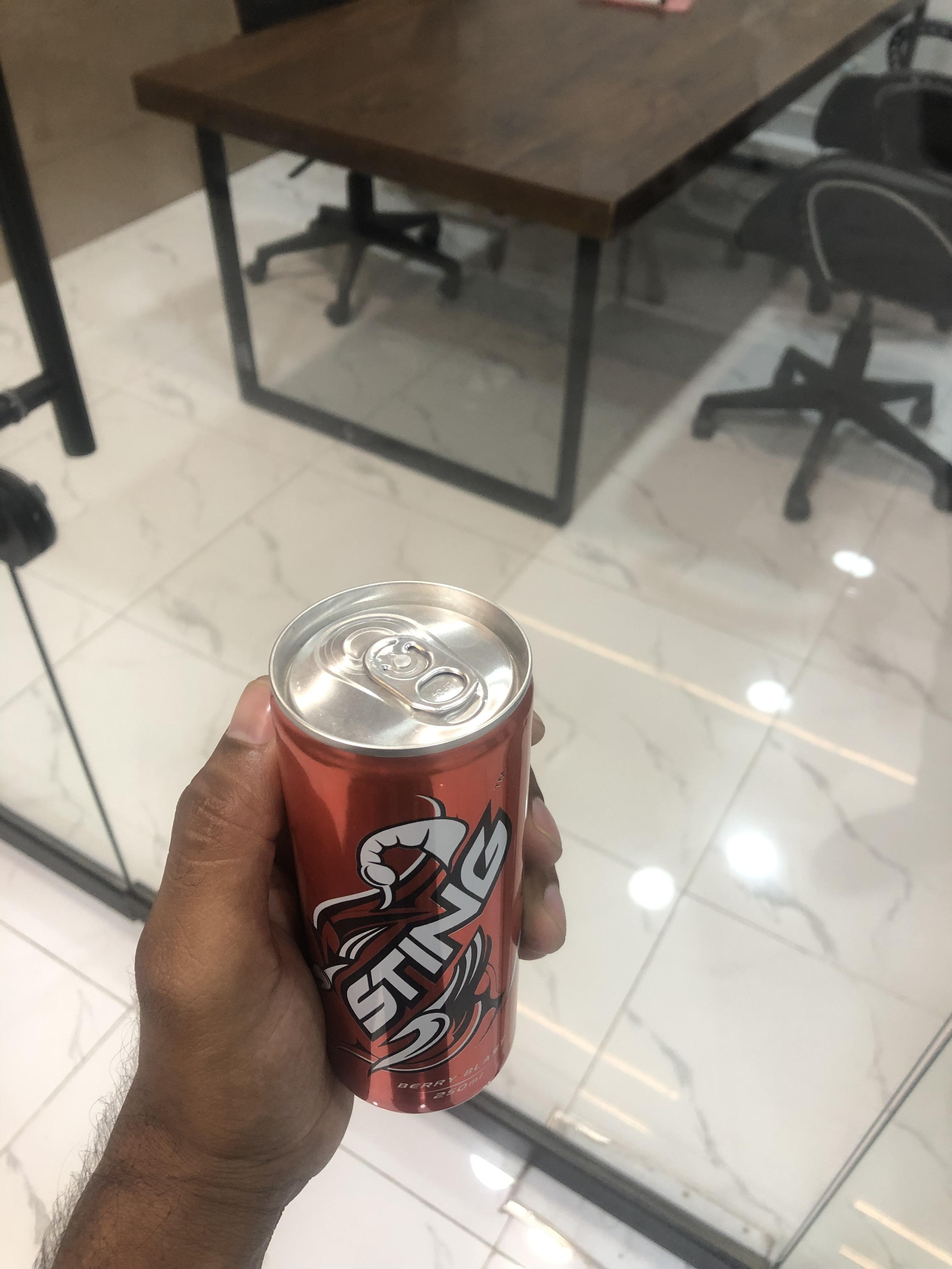tin can: (269, 568, 545, 1131)
